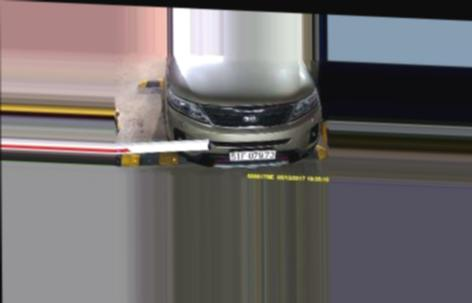License_Plate: (226, 144, 279, 166)
